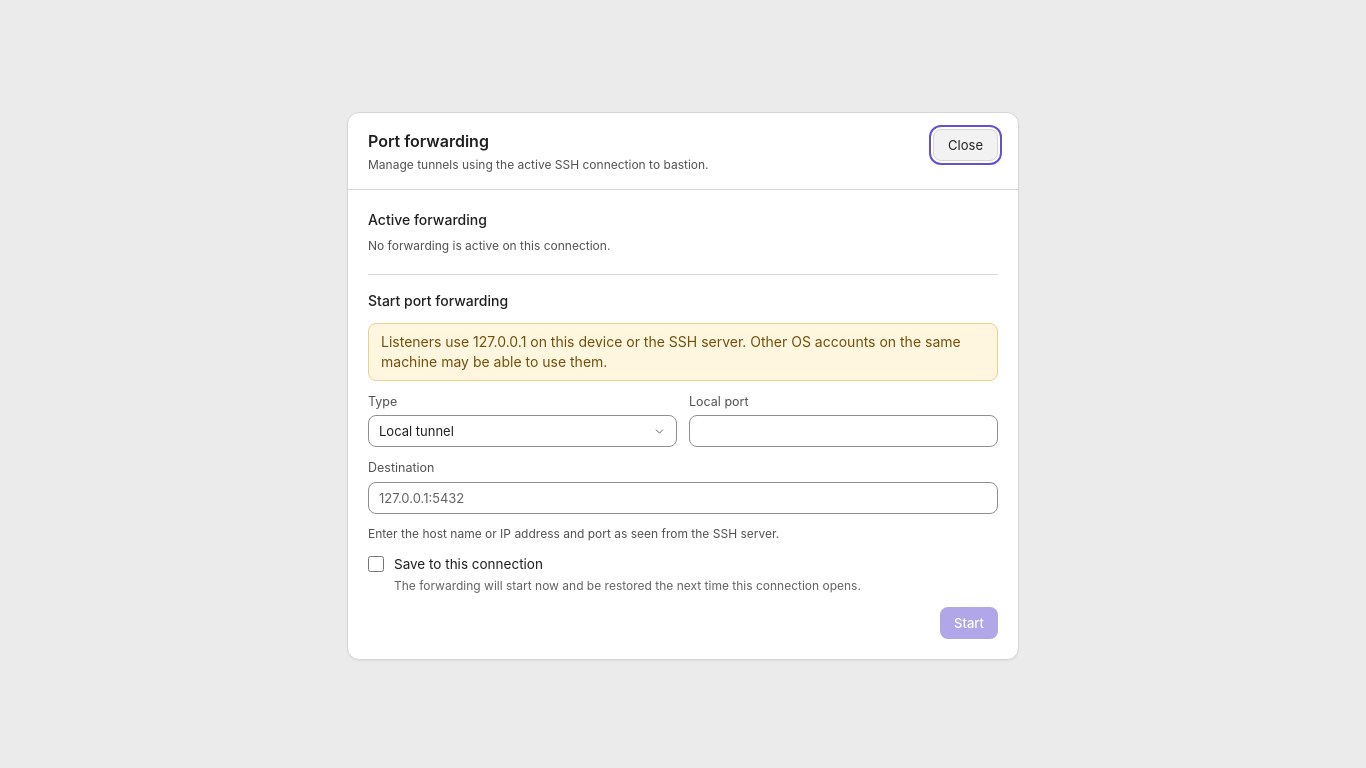
Test: TerminalPortForwards › starts a temporary Local tunnel and can stop it without closing the terminal
The width and height of the screenshot is (1366, 768).
Type "8080" into the field labelled "Local port" at coordinates (844, 431), box [689,415,998,447]
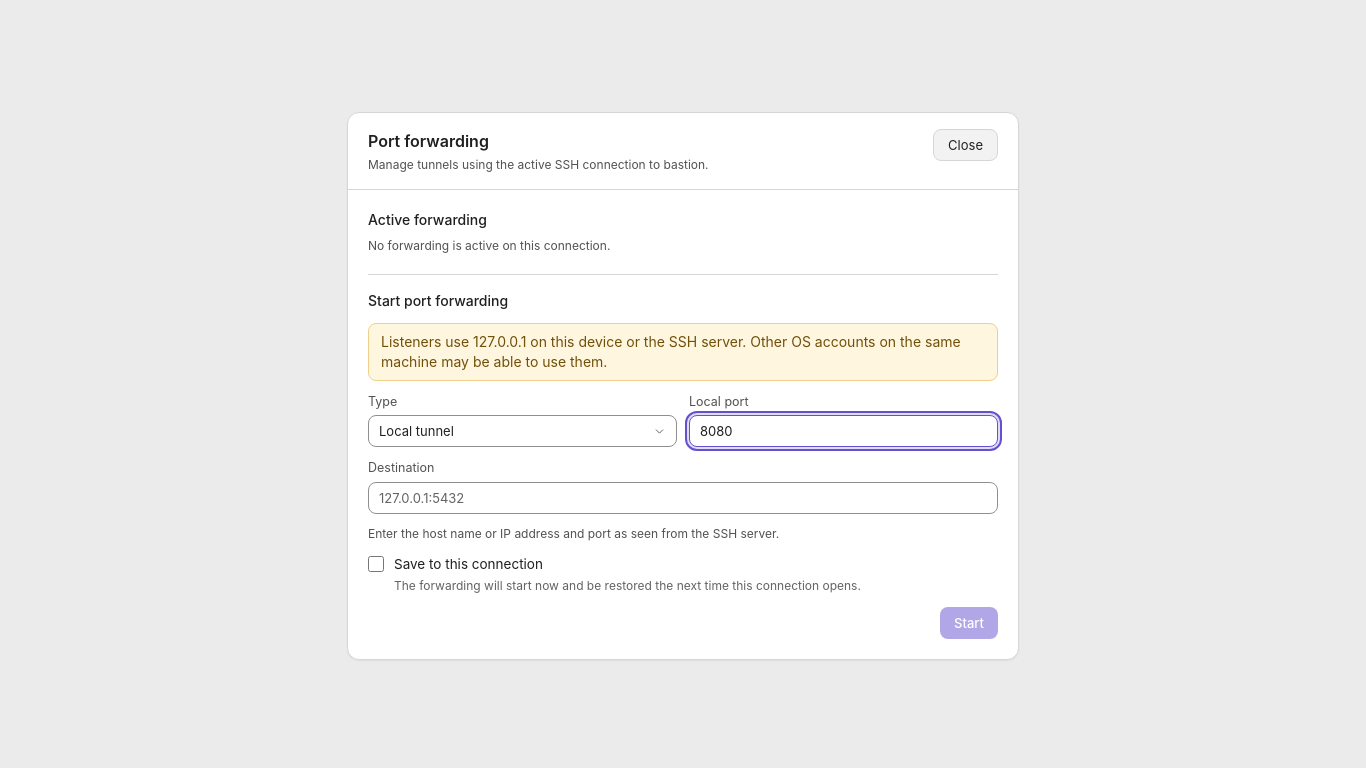
Type "db.internal:5432" into the field labelled "Destination" at coordinates (683, 498), box [368,482,998,514]
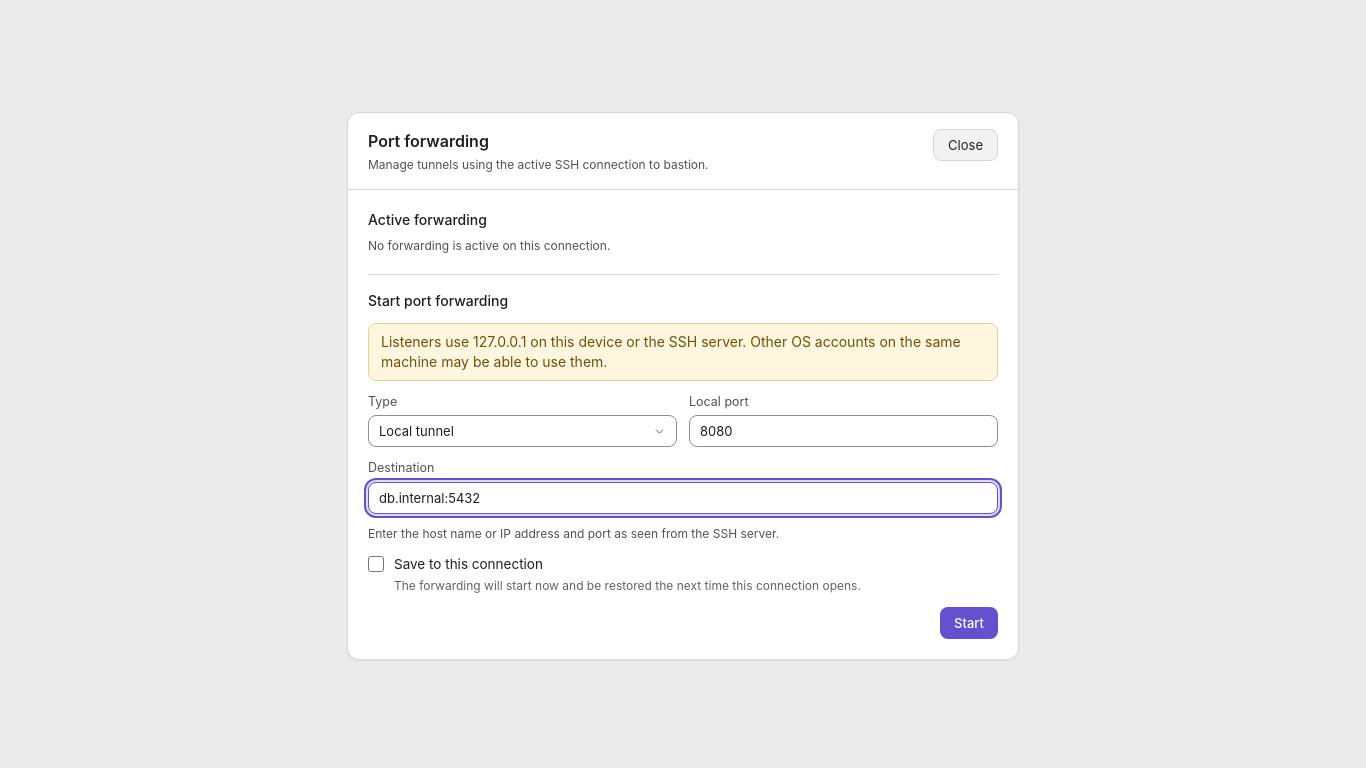
Click the button "Start" at coordinates (969, 623), box [940,607,998,639]
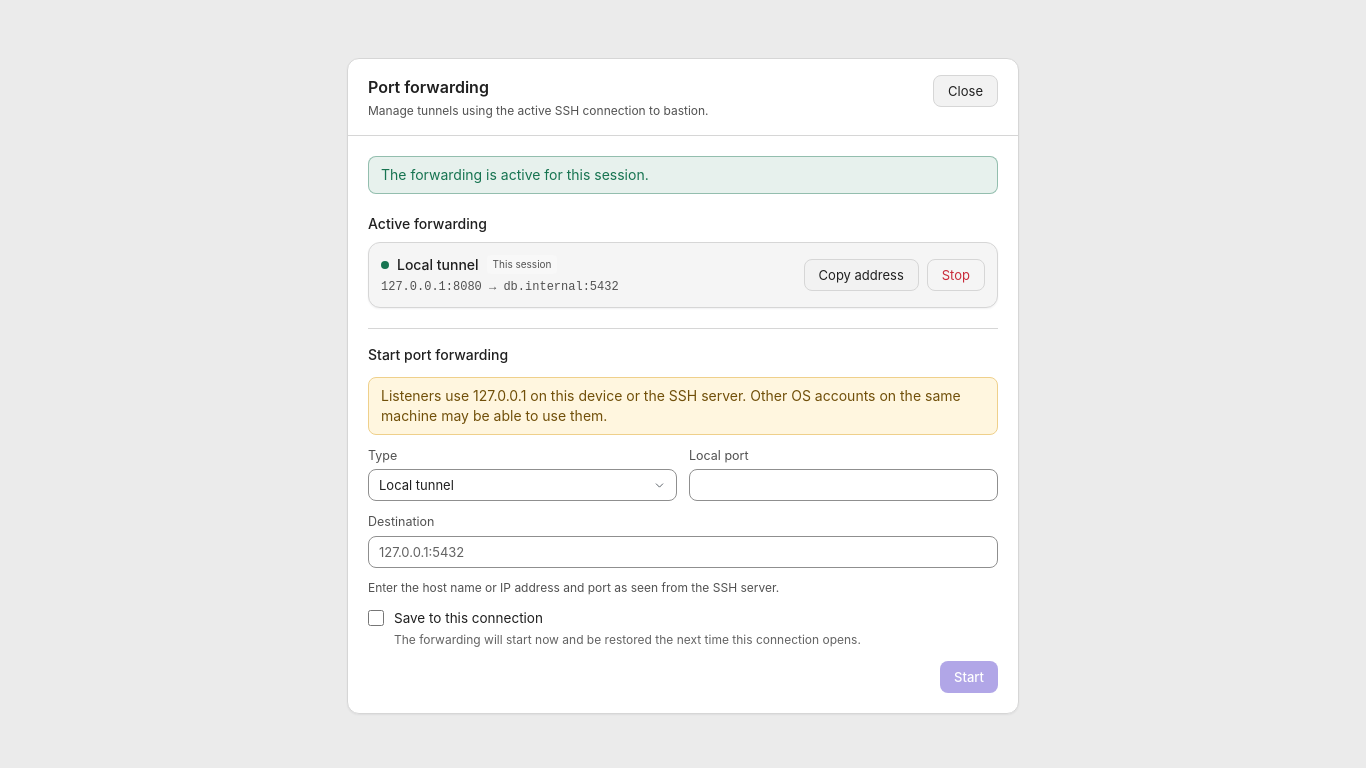
Expected: the text "127.0.0.1:8080 → db.internal:5432" is shown, [381,280,619,294]
Click the button "Stop" at coordinates (956, 275), box [927,259,985,291]
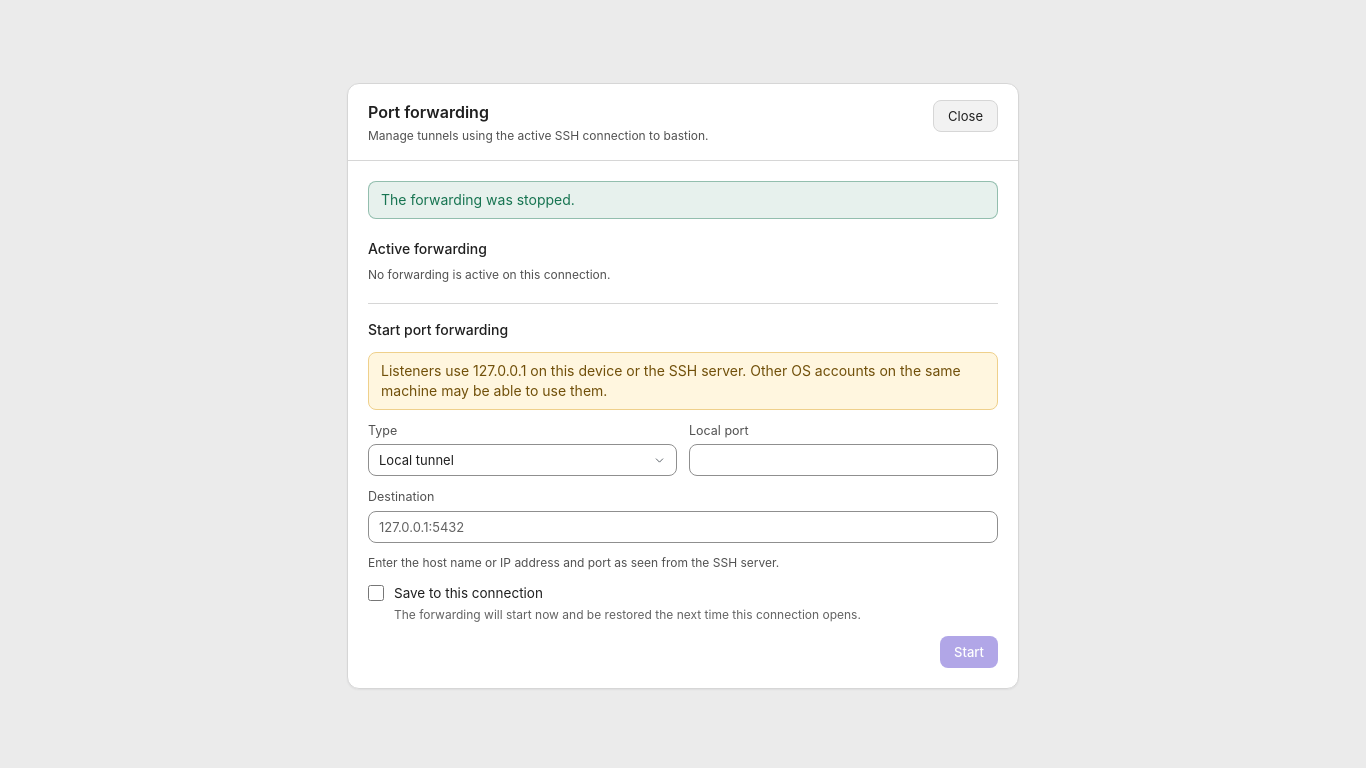
Expected: the text "No forwarding is active on this connection." is shown, [368,267,610,282]
